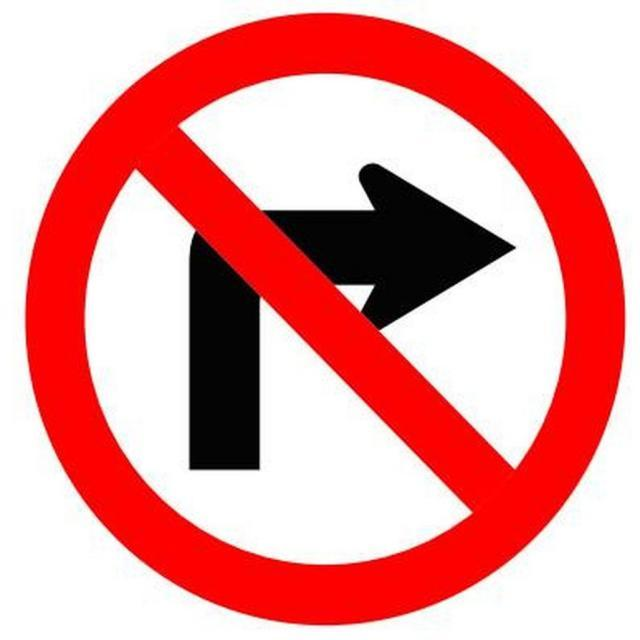Dilarang Belok Kanan: (24, 12, 625, 626)
